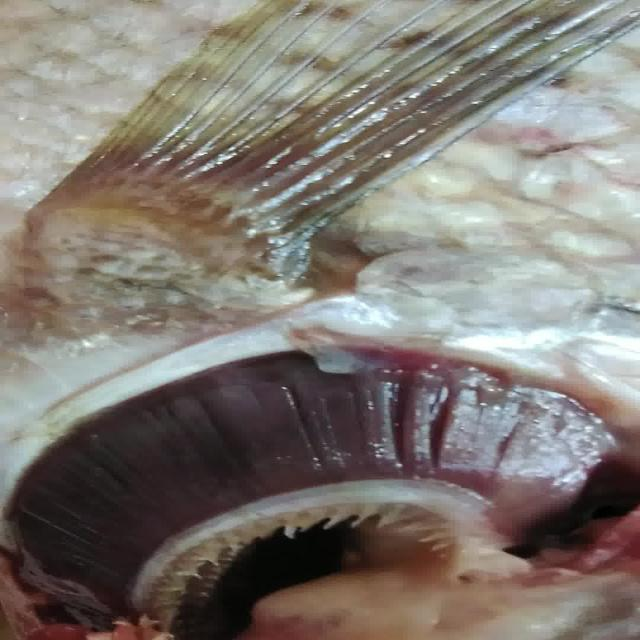Non-Fresh: (14, 336, 577, 614)
